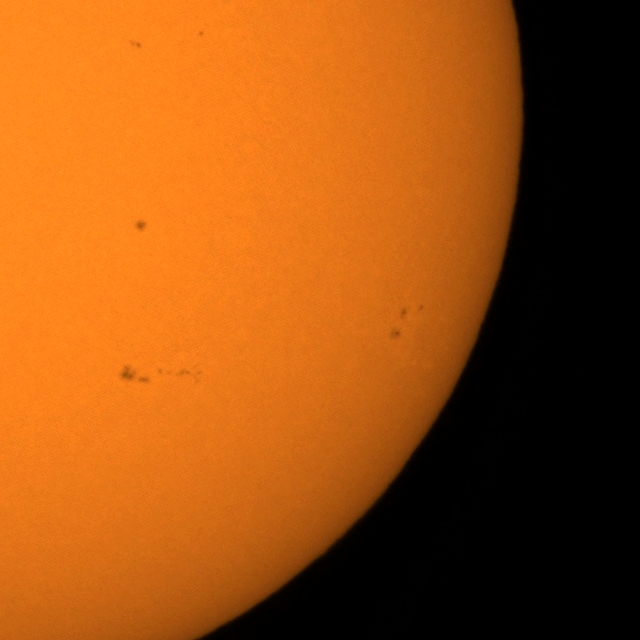sunspot: (119, 365, 149, 384), (399, 302, 423, 322), (133, 218, 149, 233), (128, 39, 142, 50), (399, 306, 408, 321), (197, 30, 205, 38)
